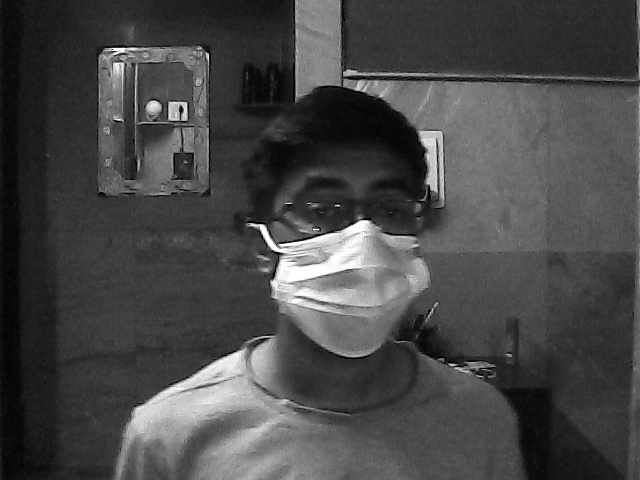mask: (264, 156, 428, 370)
